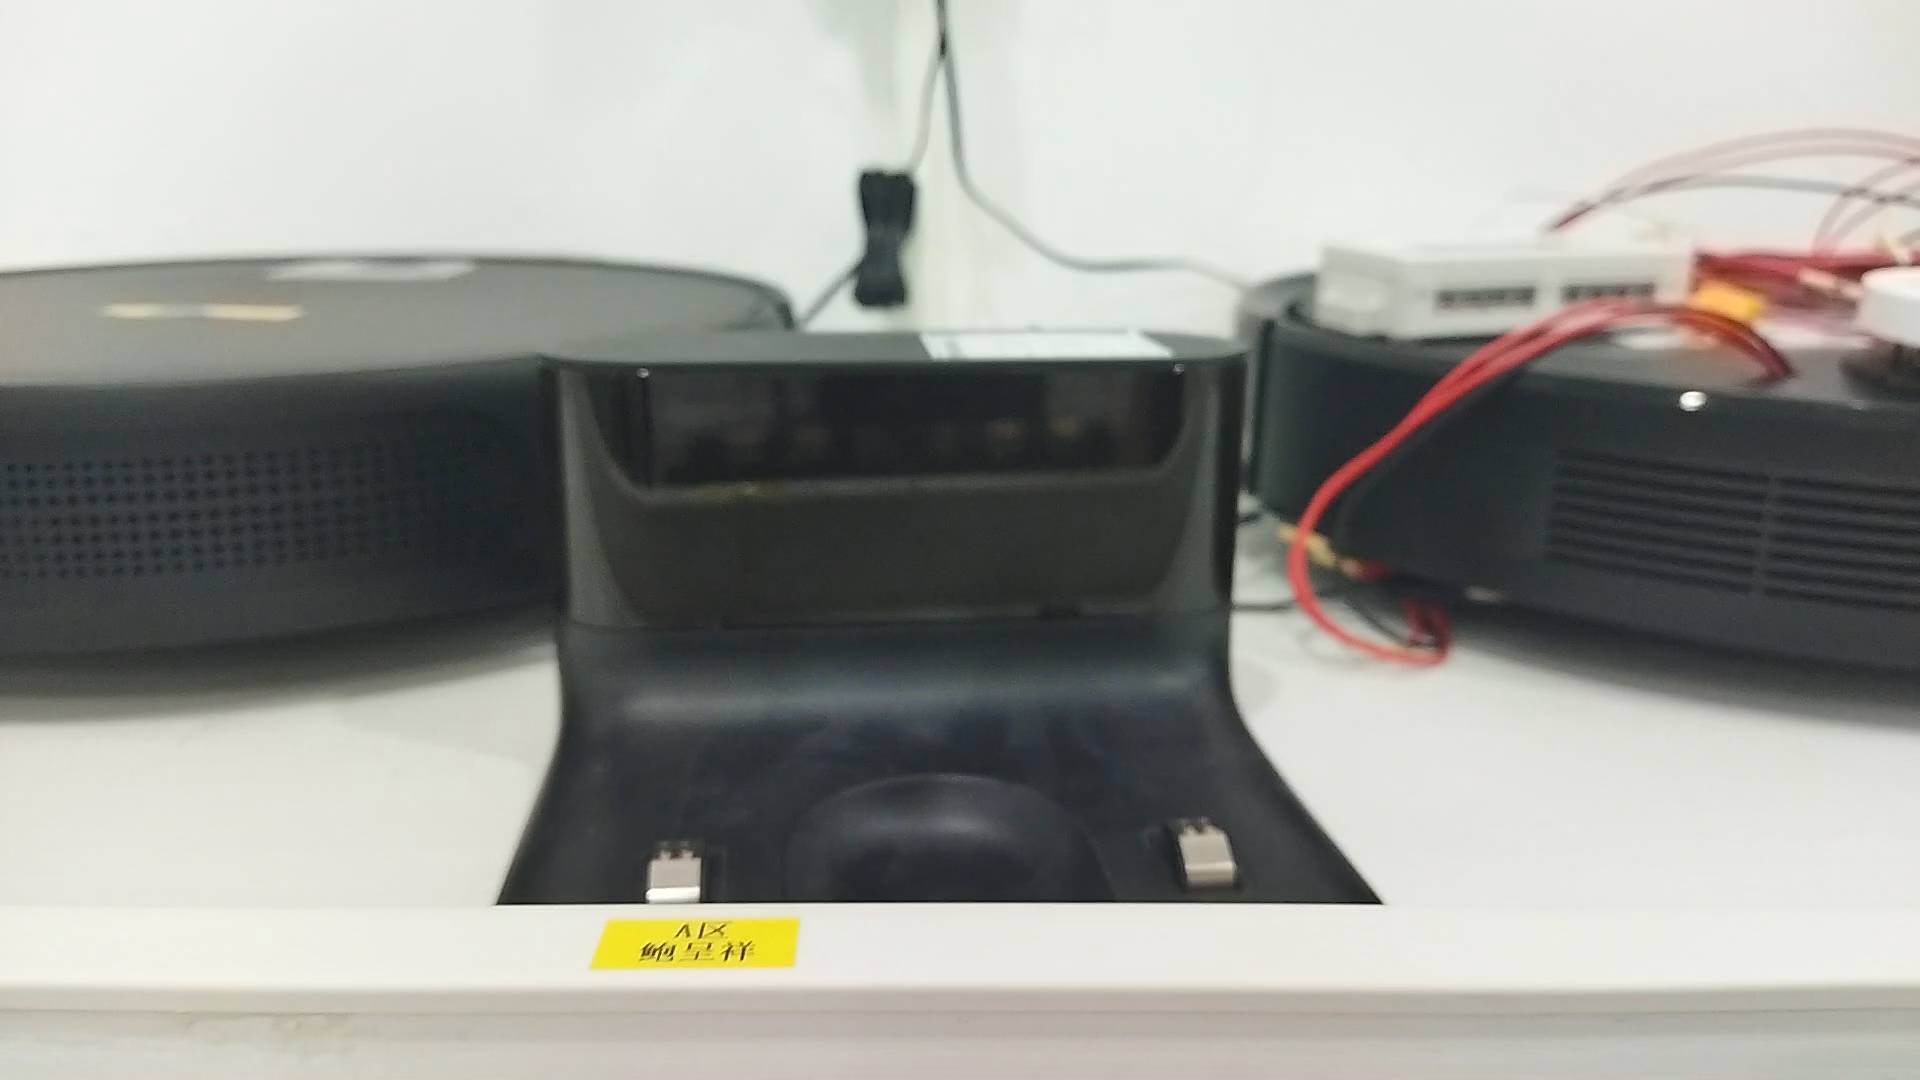recharge seat: (495, 327, 1396, 905)
